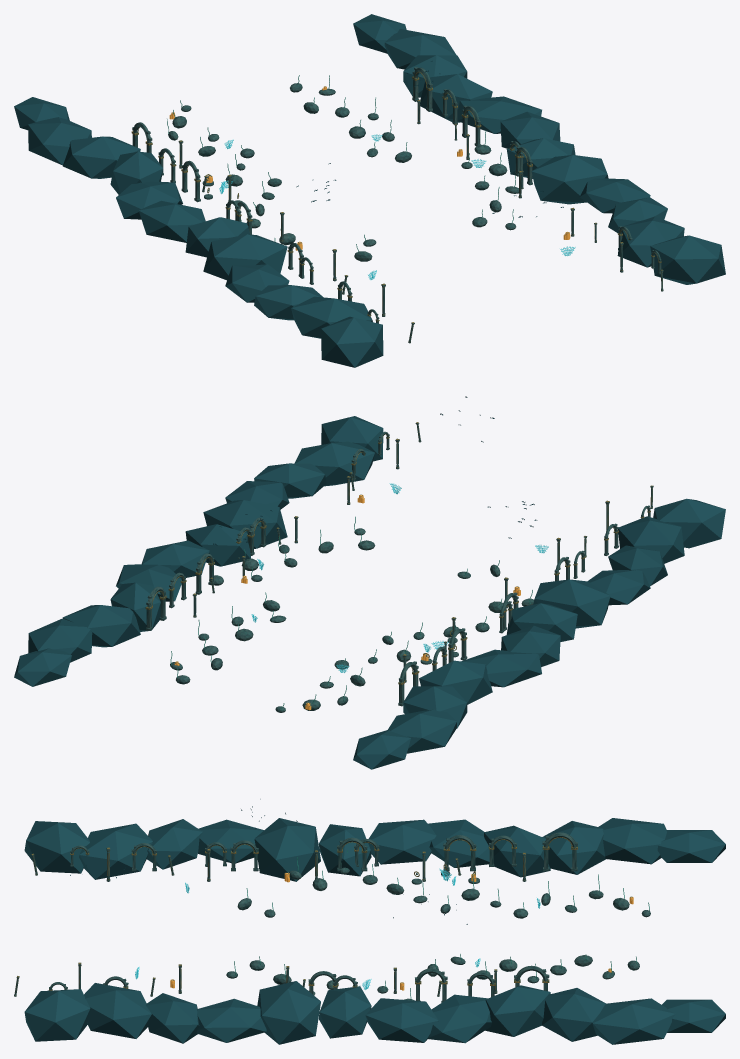
The model's file is atlantis-ecology.glb.
The picture shows the model from 3 angles, top to bottom: view 1: azimuth 30°, elevation 25°; view 2: azimuth 150°, elevation 25°; view 3: azimuth 270°, elevation 25°; orthographic projection. The views are drawn at different scales.
Visible parts, largest first — view 1: BoundaryRidge_23, BoundaryRidge_19, BoundaryRidge_11, BoundaryRidge_07, BoundaryRidge_02, BoundaryRidge_10, BoundaryRidge_01, BoundaryRidge_05, BoundaryRidge_22, BoundaryRidge_13, BoundaryRidge_16, BoundaryRidge_15 (+12 smaller); view 2: BoundaryRidge_07, BoundaryRidge_11, BoundaryRidge_19, BoundaryRidge_22, BoundaryRidge_14, BoundaryRidge_01, BoundaryRidge_10, BoundaryRidge_03, BoundaryRidge_13, BoundaryRidge_04, BoundaryRidge_18, BoundaryRidge_06 (+12 smaller); view 3: BoundaryRidge_19, BoundaryRidge_07, BoundaryRidge_13, BoundaryRidge_22, BoundaryRidge_23, BoundaryRidge_10, BoundaryRidge_11, BoundaryRidge_17, BoundaryRidge_01, BoundaryRidge_14, BoundaryRidge_15, BoundaryRidge_05 (+12 smaller).
Part boxes in pixels (<box>): BoundaryRidge_23: <box>650,235,725,284</box>; BoundaryRidge_19: <box>531,155,608,204</box>; BoundaryRidge_11: <box>321,316,383,367</box>; BoundaryRidge_07: <box>203,234,287,280</box>; BoundaryRidge_02: <box>62,136,140,178</box>; BoundaryRidge_10: <box>291,296,372,338</box>; BoundaryRidge_01: <box>28,117,91,165</box>; BoundaryRidge_05: <box>138,200,205,242</box>; BoundaryRidge_22: <box>617,216,684,267</box>; BoundaryRidge_13: <box>384,29,456,69</box>; BoundaryRidge_16: <box>457,96,541,133</box>; BoundaryRidge_15: <box>420,74,492,122</box>; BoundaryRidge_07: <box>533,579,610,628</box>; BoundaryRidge_11: <box>653,498,725,548</box>; BoundaryRidge_19: <box>203,500,287,548</box>; BoundaryRidge_22: <box>294,441,374,486</box>; BoundaryRidge_14: <box>62,605,140,647</box>; BoundaryRidge_01: <box>387,709,456,753</box>; BoundaryRidge_10: <box>618,516,684,563</box>; BoundaryRidge_03: <box>419,660,492,704</box>; BoundaryRidge_13: <box>28,618,92,662</box>; BoundaryRidge_04: <box>461,649,541,687</box>; BoundaryRidge_18: <box>185,524,250,566</box>; BoundaryRidge_06: <box>506,603,577,641</box>; BoundaryRidge_19: <box>257,981,320,1044</box>; BoundaryRidge_07: <box>254,818,320,881</box>; BoundaryRidge_13: <box>592,998,675,1044</box>; BoundaryRidge_22: <box>84,983,151,1038</box>; BoundaryRidge_23: <box>24,989,90,1041</box>; BoundaryRidge_10: <box>79,823,153,879</box>; BoundaryRidge_11: <box>24,821,89,873</box>; BoundaryRidge_17: <box>365,998,438,1042</box>; BoundaryRidge_01: <box>598,818,666,864</box>; BoundaryRidge_14: <box>542,988,606,1041</box>; BoundaryRidge_15: <box>485,985,550,1036</box>; BoundaryRidge_05: <box>368,819,436,864</box>.
Size of the model in its own units: 69.1 by 16.26 by 99.28.
Materials: 14 (9 with a texture image).
